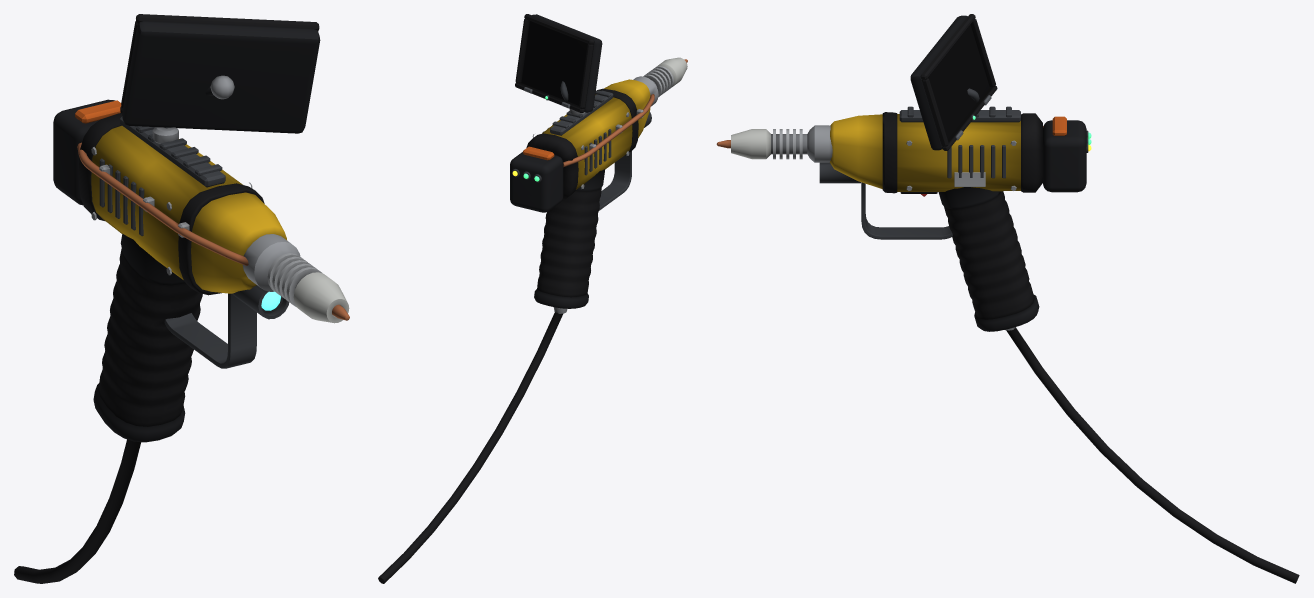
Rendered from soldador.glb.
3 renders of one model, left to right at view 1: azimuth 30°, elevation 25°; view 2: azimuth 150°, elevation 25°; view 3: azimuth 270°, elevation 25°, orthographic. The views are drawn at different scales.
Parts seen in each view (by area): view 1: cuerpo; view 2: cuerpo; view 3: cuerpo.
Boxes of the visible parts, x1=… form: cuerpo: x1=14, y1=14, x2=349, y2=583; cuerpo: x1=378, y1=14, x2=687, y2=583; cuerpo: x1=716, y1=14, x2=1299, y2=583.
Size of the model in its own units: 0.1129 by 0.4827 by 0.4806.
